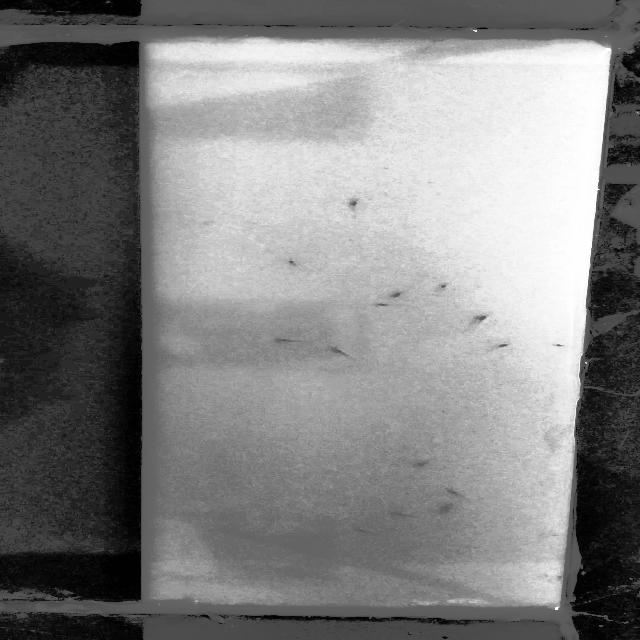shrimp: (336, 191, 371, 213), (375, 282, 410, 300), (396, 456, 439, 470), (467, 310, 498, 325), (488, 339, 518, 354), (325, 344, 353, 360), (387, 507, 418, 520), (435, 502, 459, 518), (441, 485, 469, 498), (364, 299, 394, 311), (283, 252, 301, 270), (268, 334, 297, 344), (350, 526, 377, 536), (434, 280, 449, 292)
